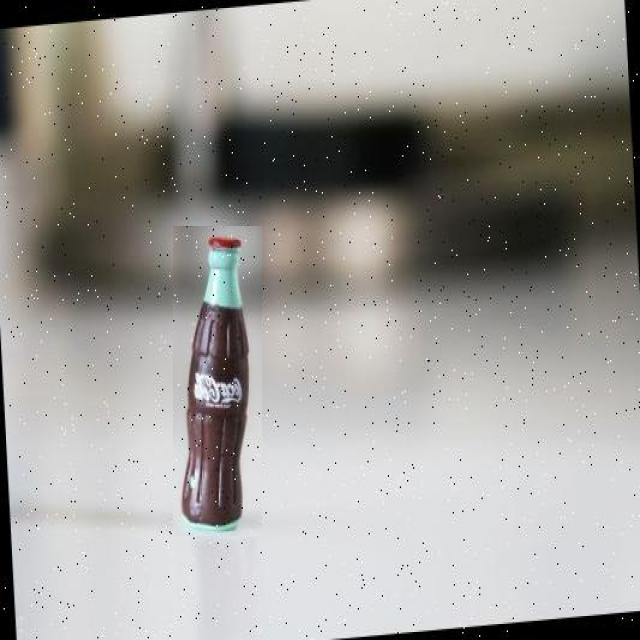coca-cola: (173, 226, 262, 536)
